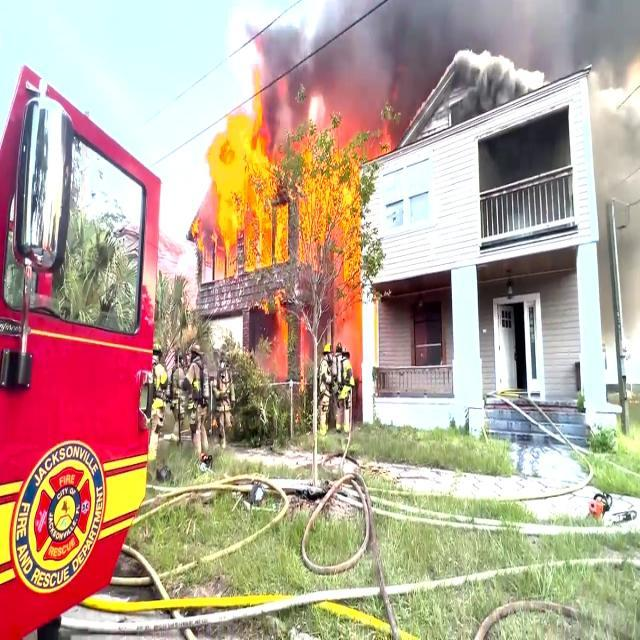Fire: (204, 104, 285, 263), (314, 156, 356, 352)
Smoke: (274, 0, 640, 62), (595, 69, 640, 303)
